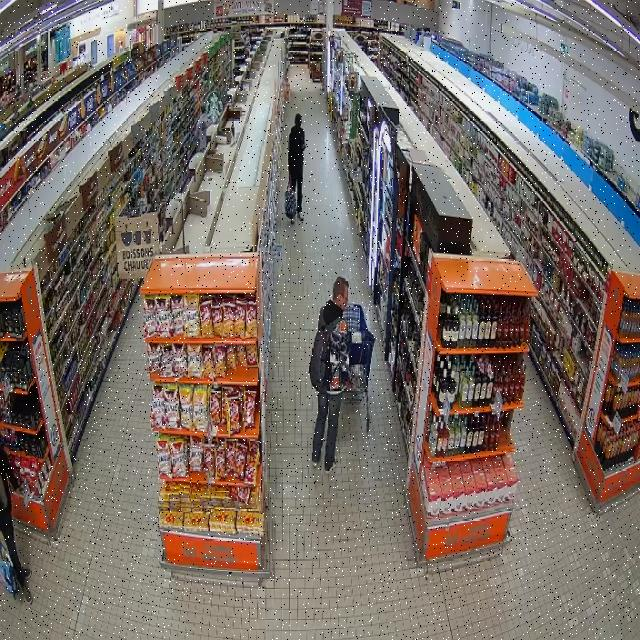article: (21, 478, 34, 507)
bags: (310, 318, 340, 391), (0, 542, 19, 597), (285, 187, 296, 220)
hands: (14, 486, 23, 497), (302, 144, 306, 152)
person: (312, 277, 350, 473), (0, 446, 32, 604), (289, 114, 305, 220)
